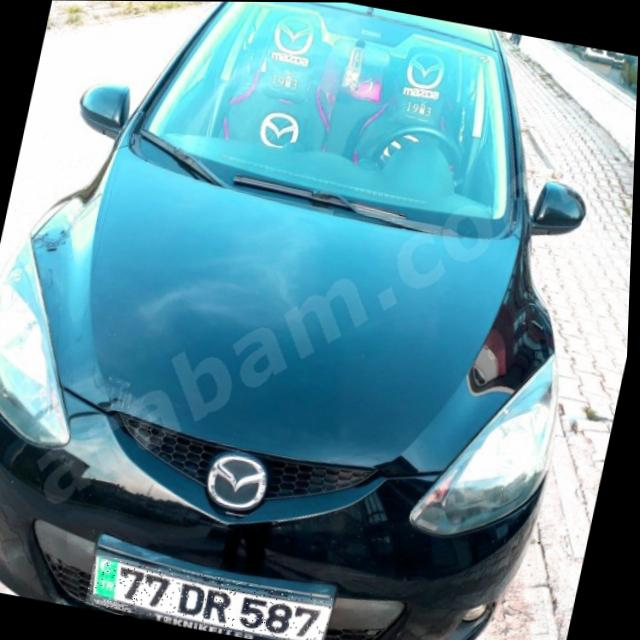license_plate: (87, 554, 339, 640)
